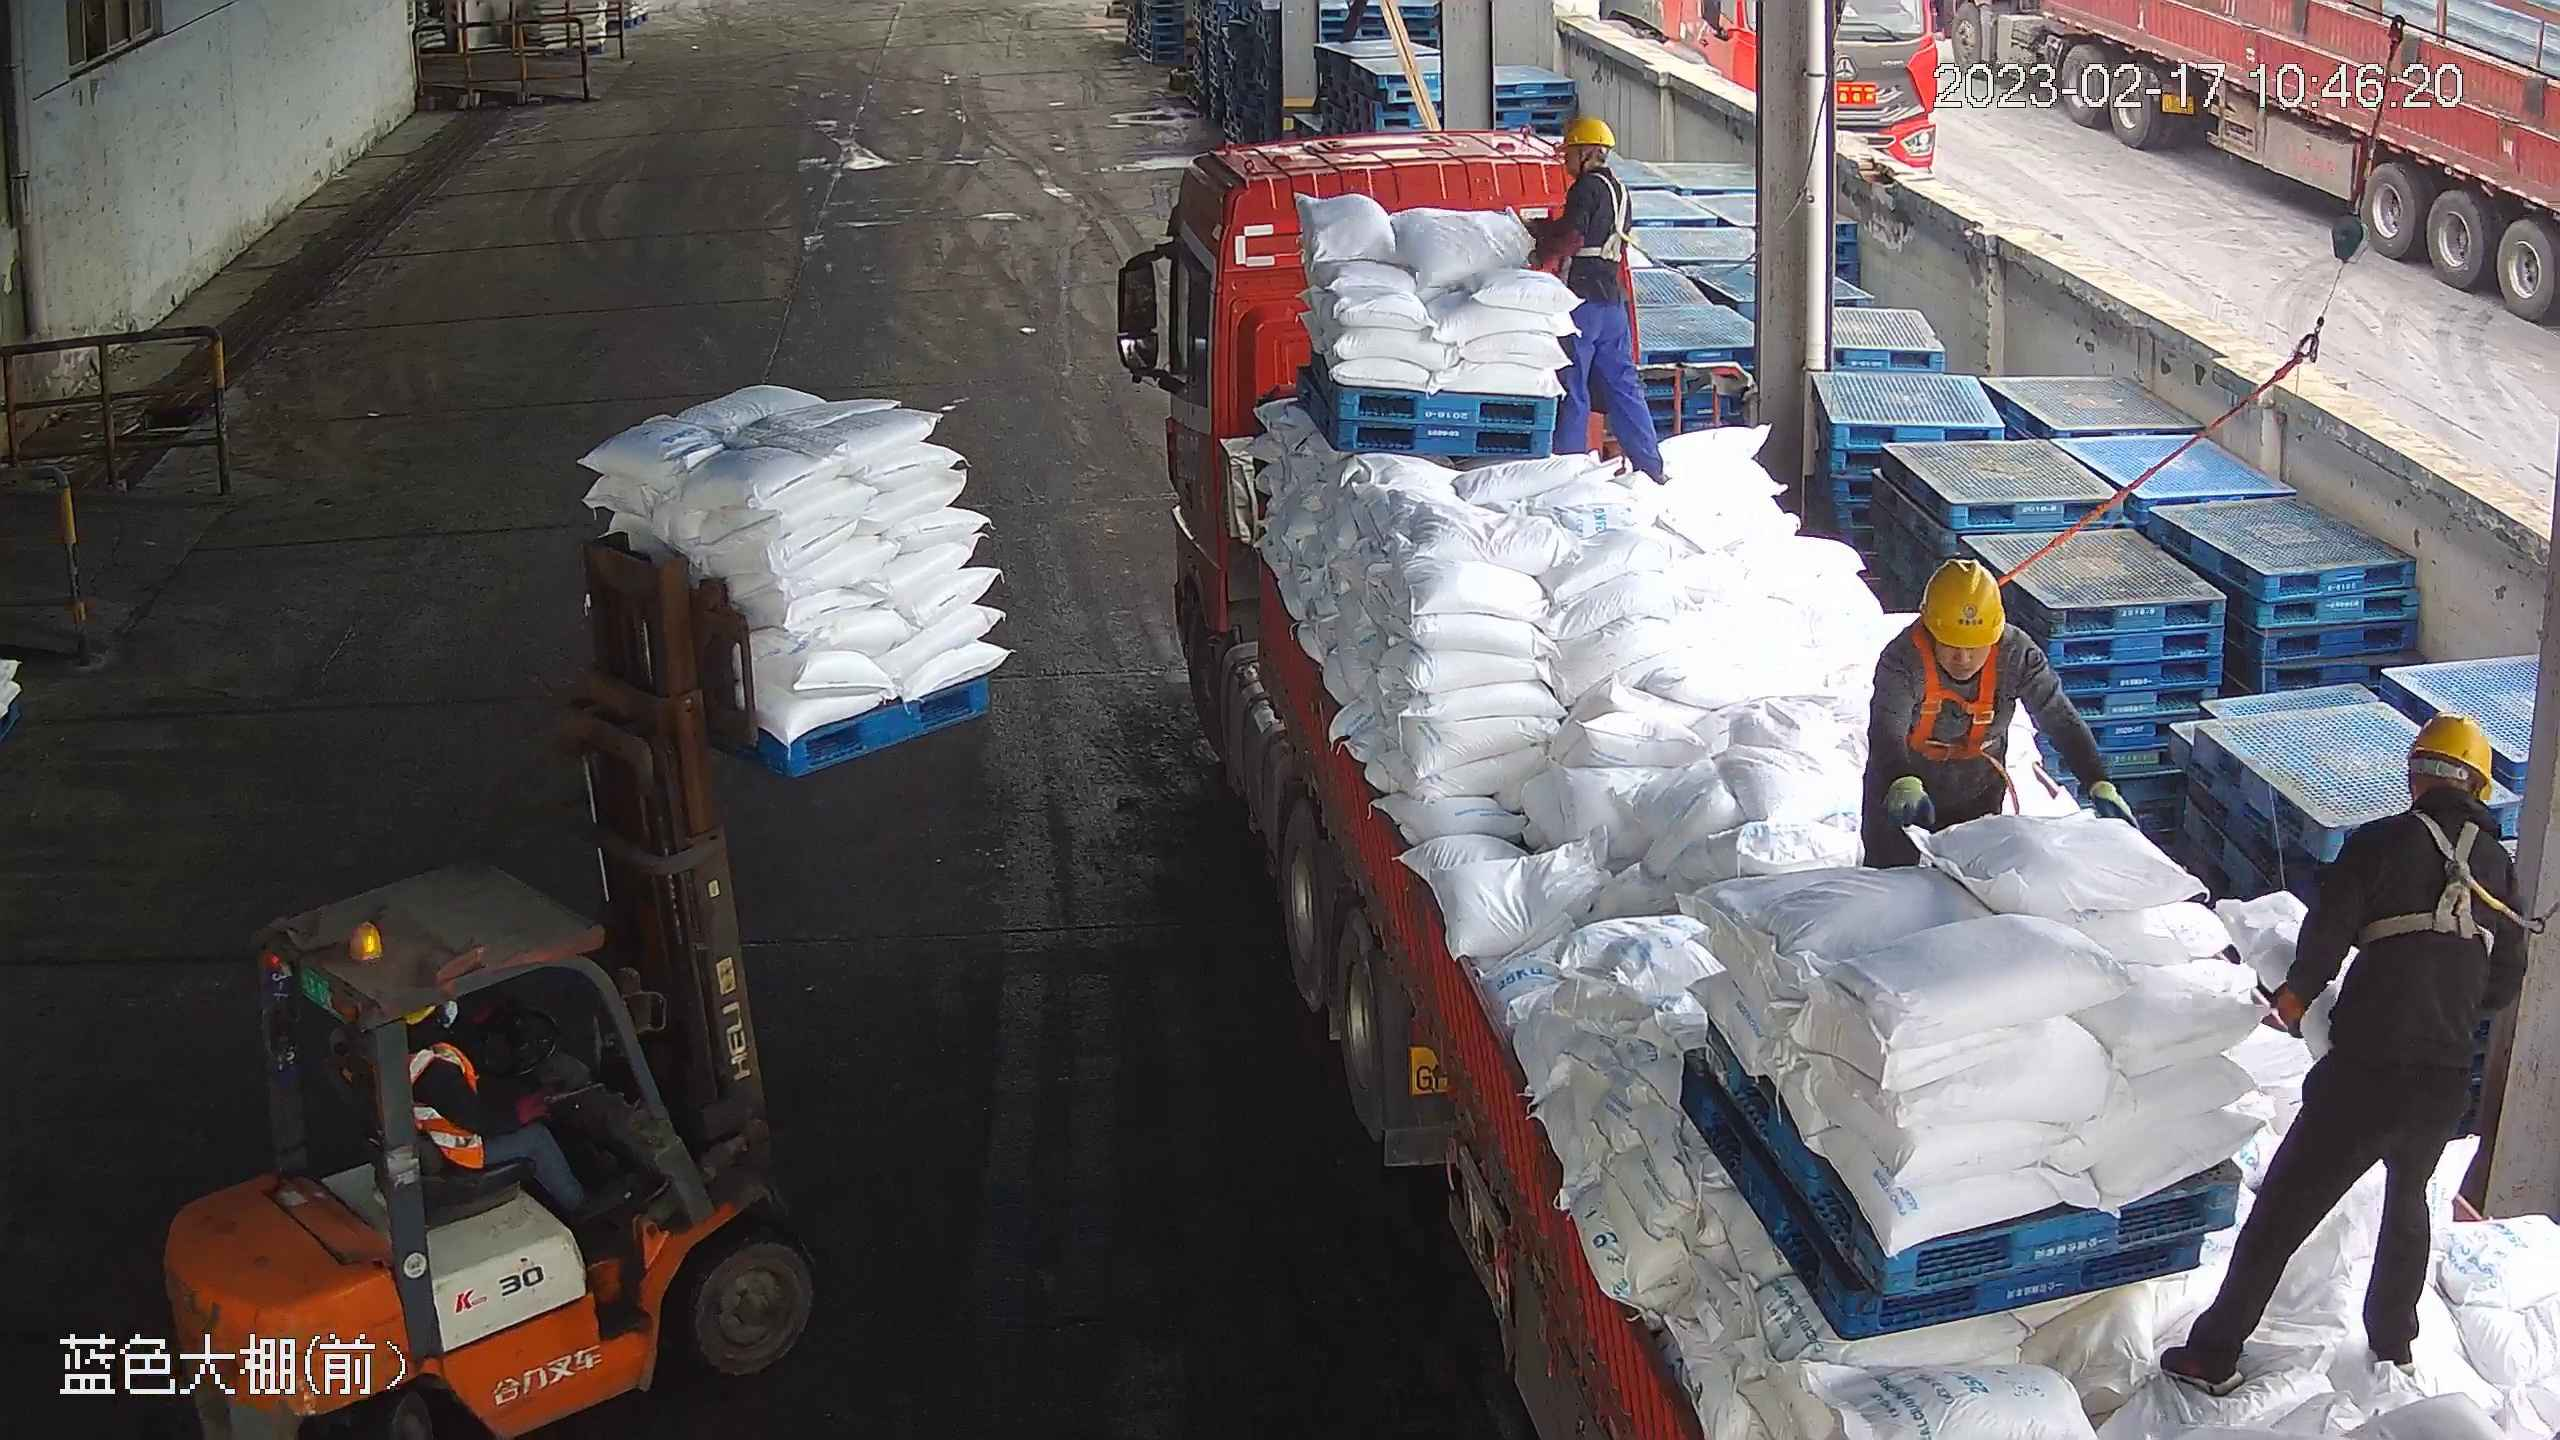belt: (2351, 813, 2529, 964), (1891, 630, 2023, 772), (1567, 169, 1652, 276)
head: (2332, 711, 2525, 944), (1859, 554, 2064, 747), (1534, 118, 1644, 283)
helmet: (1917, 554, 2012, 649), (2403, 715, 2503, 794), (1556, 120, 1622, 157)
people: (2159, 715, 2525, 1406), (1859, 556, 2144, 886), (396, 994, 632, 1232), (1529, 110, 1669, 489)
truck: (1105, 115, 2560, 1440)
